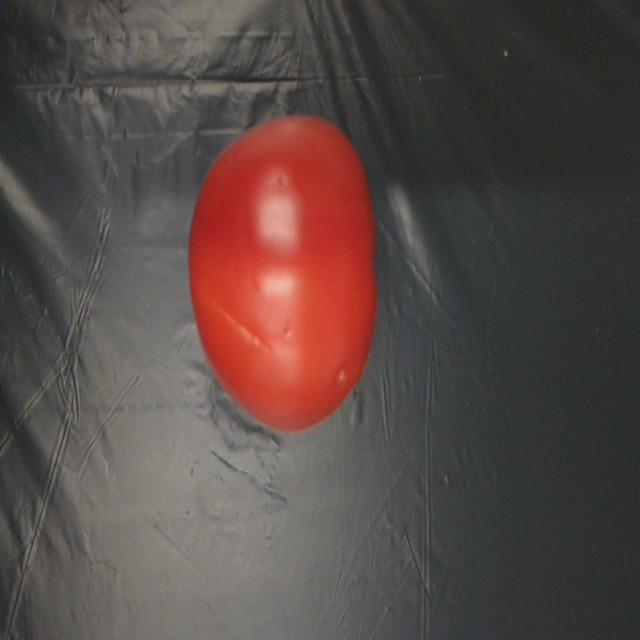kirmizi: (183, 105, 377, 436)
